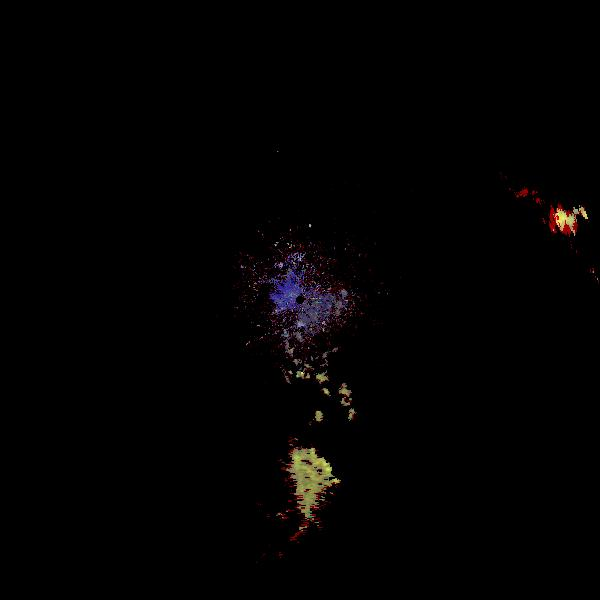roost: (299, 371, 305, 377)
